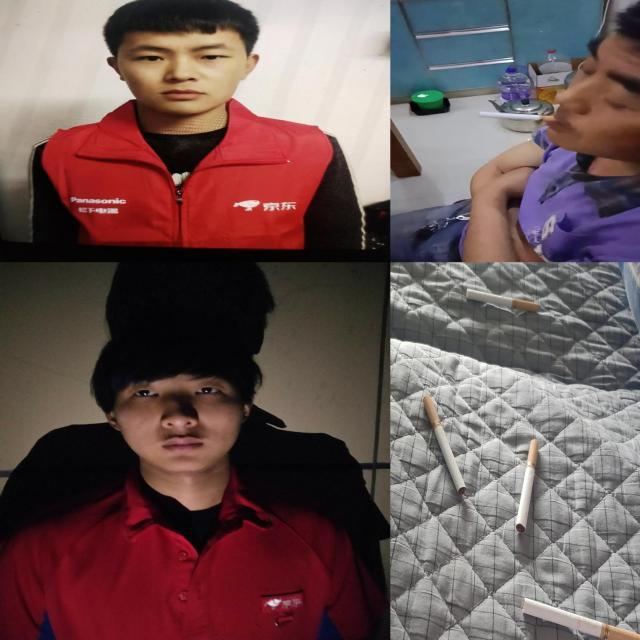cigarette: (522, 596, 640, 640), (423, 396, 468, 497), (516, 439, 540, 534), (466, 289, 539, 313), (479, 111, 557, 122)
